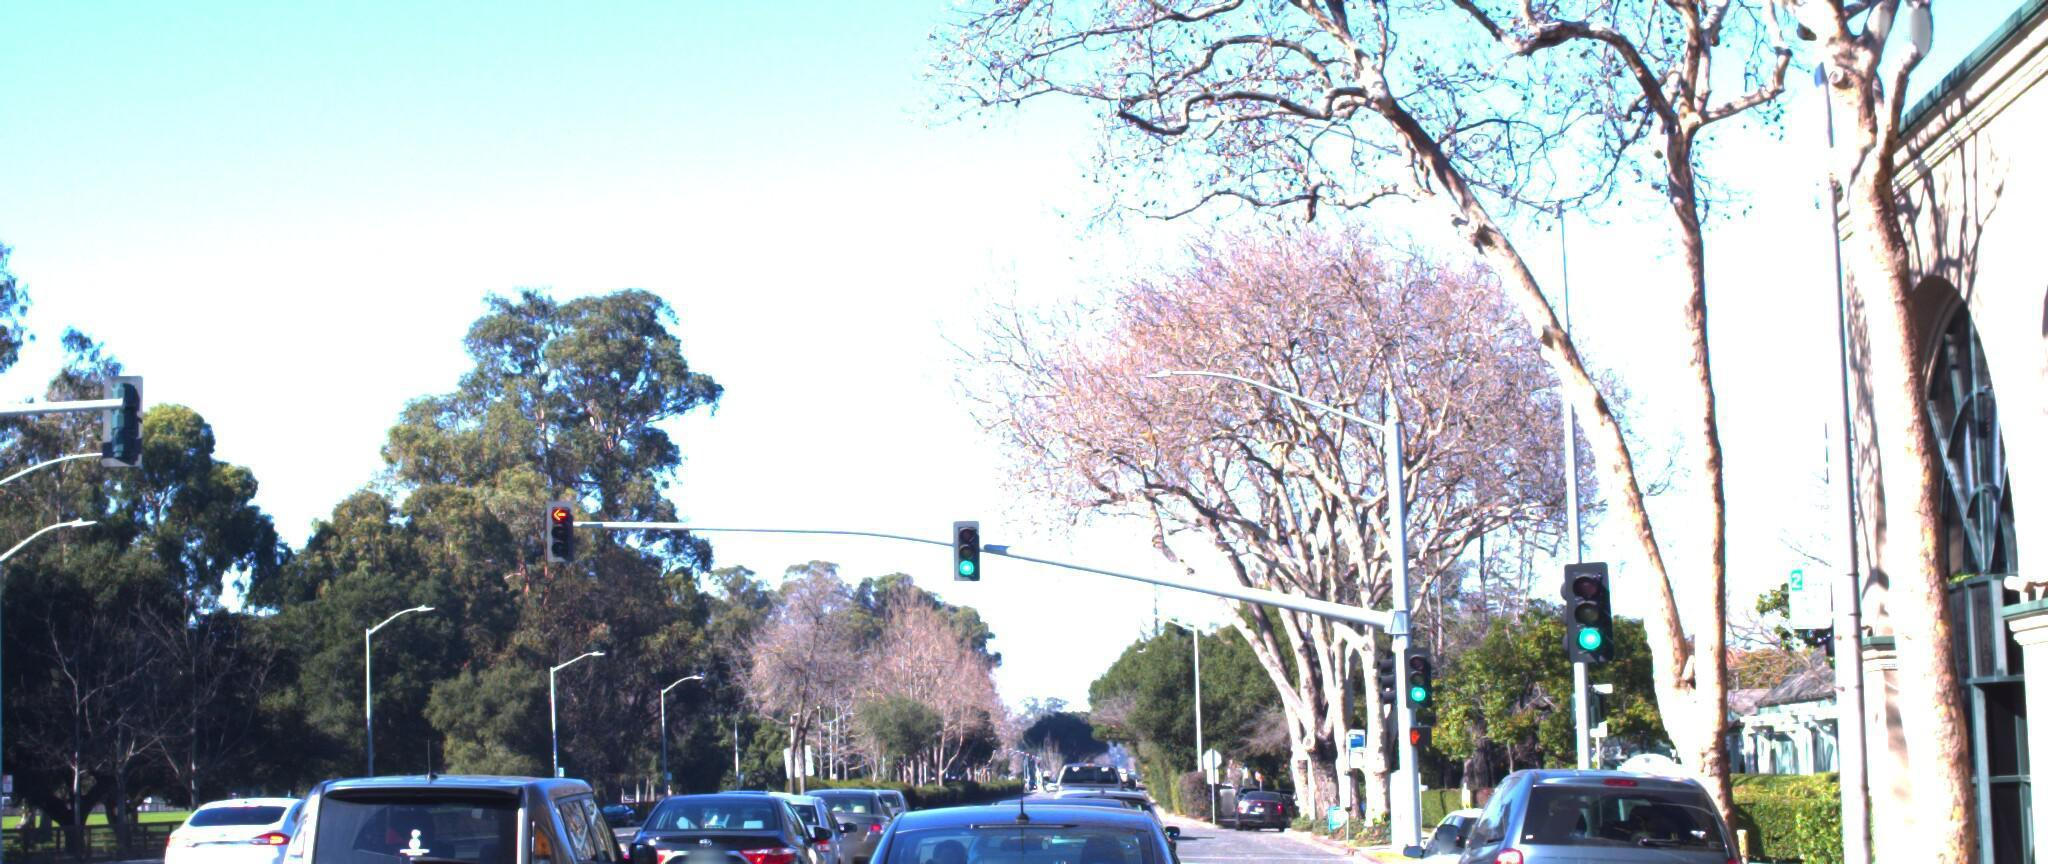car: (232, 728, 683, 864), (778, 767, 1243, 864), (1405, 735, 1753, 864), (1371, 787, 1624, 864), (142, 774, 357, 864), (605, 780, 833, 864), (684, 777, 852, 864), (769, 794, 903, 864)
